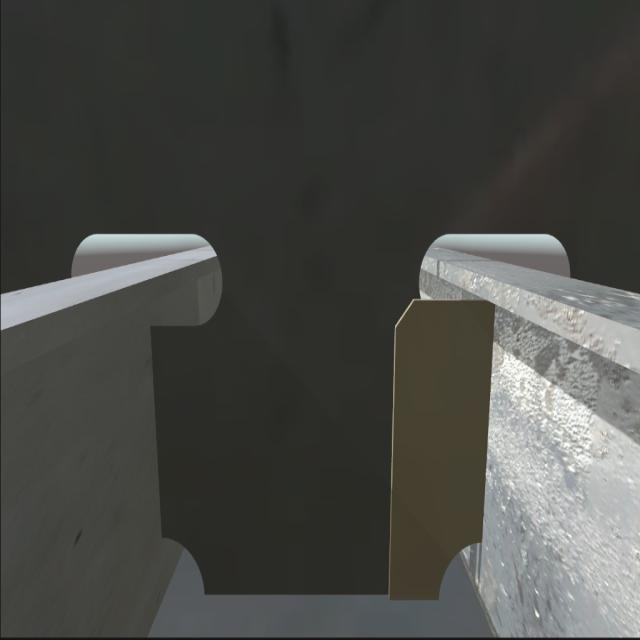fillet_hole: (434, 540, 484, 598)
fillet_yong_jeop_jang: (198, 585, 429, 611)
longi_yong_jeop_jang: (146, 314, 168, 541), (479, 292, 492, 538)
plate_CP03: (390, 296, 490, 597)
